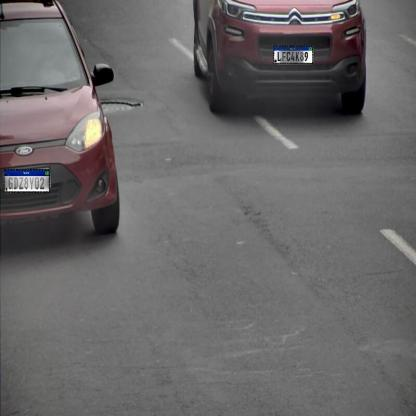PlacaM: (4, 169, 50, 193), (274, 46, 313, 64)
